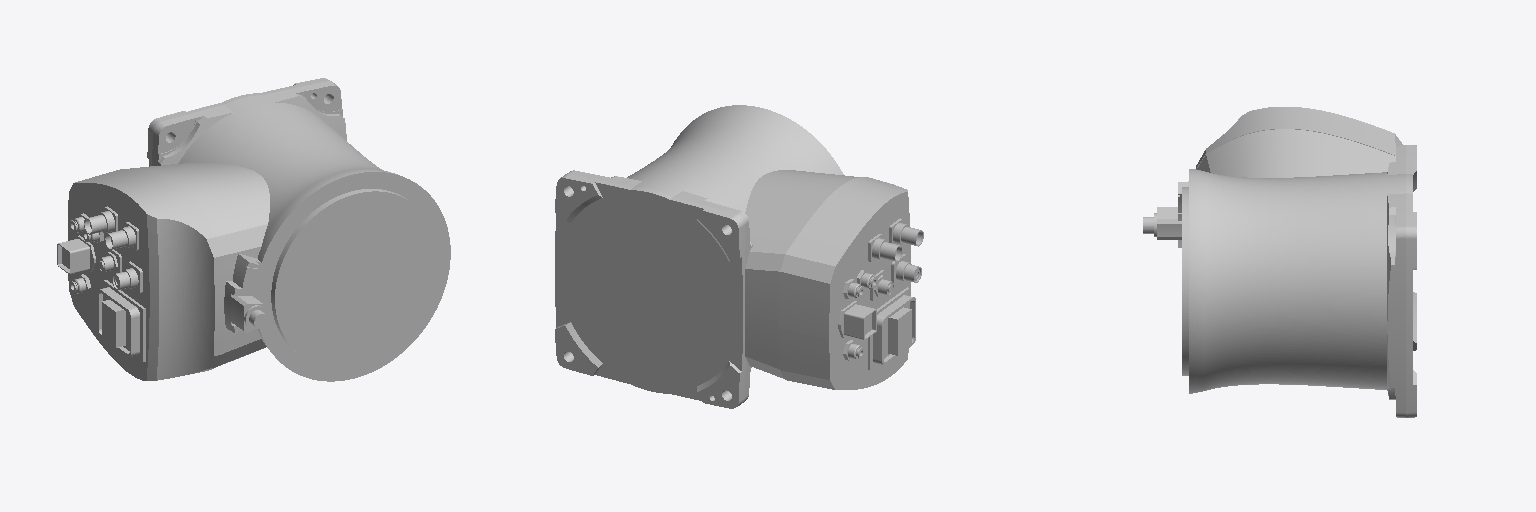
File: Podstawa.obj
3 views of the same model, side by side, from view 1: azimuth 30°, elevation 25°; view 2: azimuth 150°, elevation 25°; view 3: azimuth 270°, elevation 25° (orthographic).
Visible parts, largest first — view 1: <STL_BINARY>; view 2: <STL_BINARY>; view 3: <STL_BINARY>.
Boxes of the visible parts, <box> form: <STL_BINARY>: <box>57,78,450,381</box>; <STL_BINARY>: <box>555,105,923,408</box>; <STL_BINARY>: <box>1143,107,1416,417</box>.
Bounding box in the file's own units: 328 × 215 × 261.